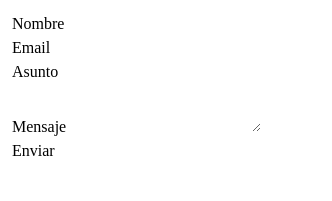
Test: Contacto - Happy Path › rellena todos los campos correctamente y envía el formulario mostrando mensaje de éxito
Type "Juan Pérez" into the field labelled "Nombre" at point(164, 24), box [64,12,264,36]
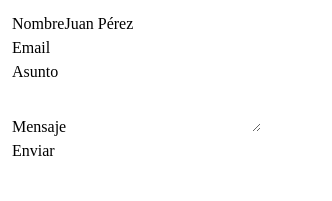
Type "juan.perez@email.com" into the field labelled "Email" at point(150, 48), box [50,36,250,60]
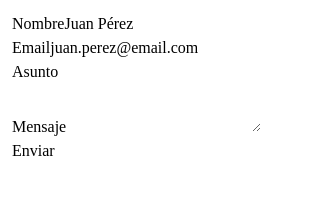
Type "Consulta general" into the field labelled "Asunto" at point(158, 72), box [58,60,258,84]
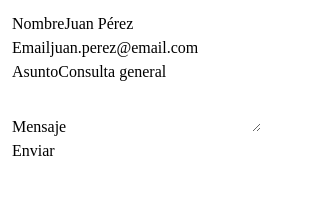
Type "Hola, este es un mensaje de prueba para contacto." into the text box labelled "Mensaje" at point(164, 108), box [66,84,261,132]
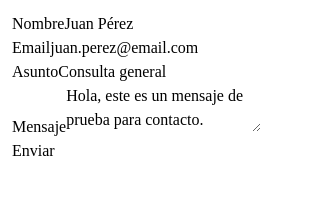
Click the button "Enviar" at point(33, 151), box [12,139,55,163]
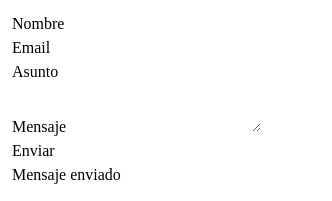
Check: the text "Mensaje enviado" is shown, box [12,166,121,183]
